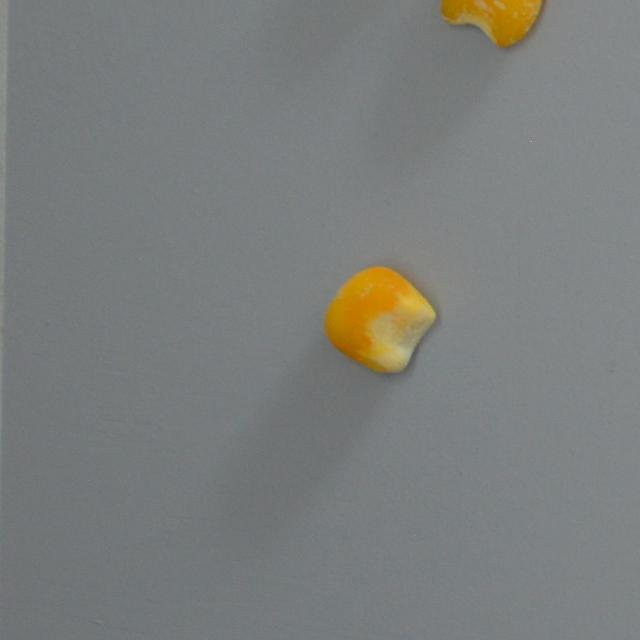no_desgerminado: (322, 264, 440, 379)
pelicula: (438, 0, 548, 50)
